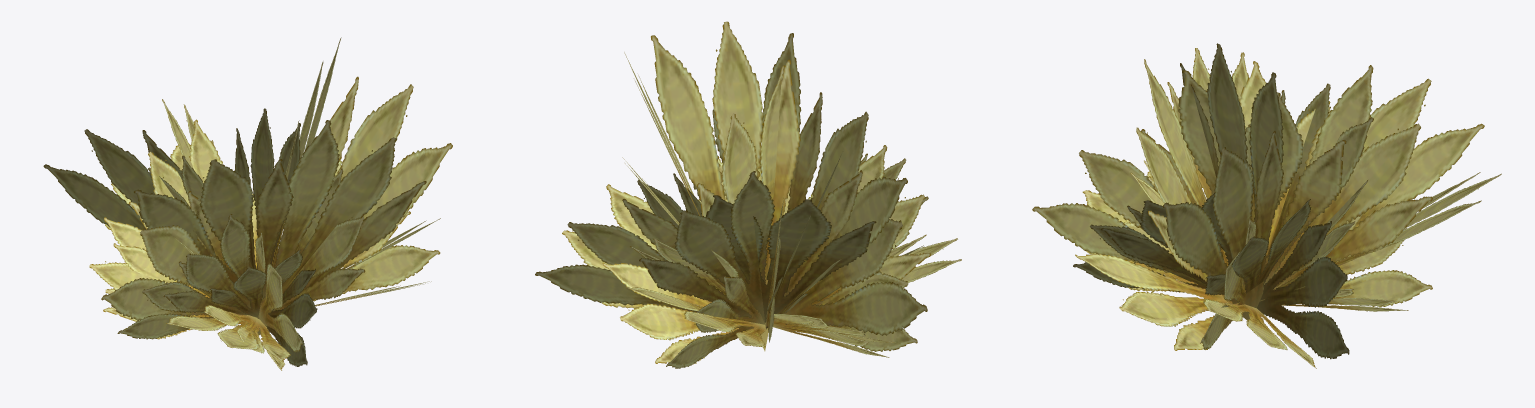
The model's file is C2SNBSHA.obj.
3 renders of one model, left to right at view 1: azimuth 30°, elevation 25°; view 2: azimuth 150°, elevation 25°; view 3: azimuth 270°, elevation 25°, orthographic. The views are drawn at different scales.
Parts seen in each view (by area): view 1: Node 0; view 2: Node 0; view 3: Node 0.
Part boxes in pixels (x1,y1,x2,y2): Node 0: (43, 37, 452, 370); Node 0: (535, 21, 961, 368); Node 0: (1032, 43, 1501, 368).
Bounding box in the file's own units: 3.54 × 2.61 × 3.9.
Materials: 1 (1 with a texture image).
